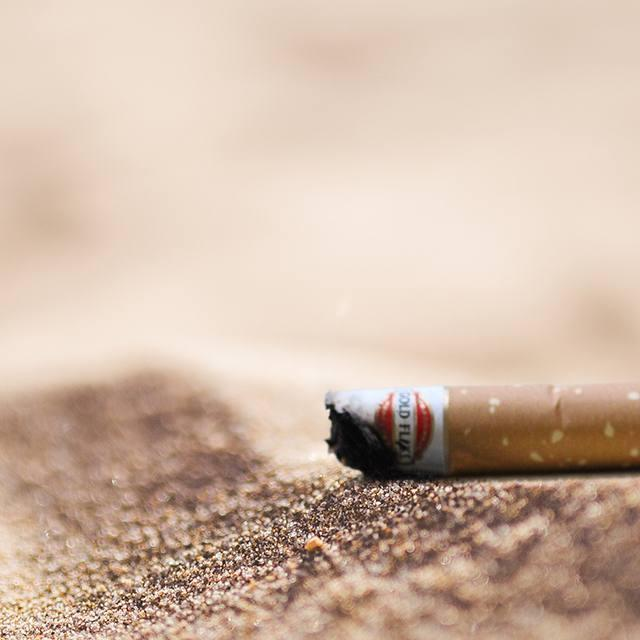Cigarette Butt: (322, 373, 640, 486)
